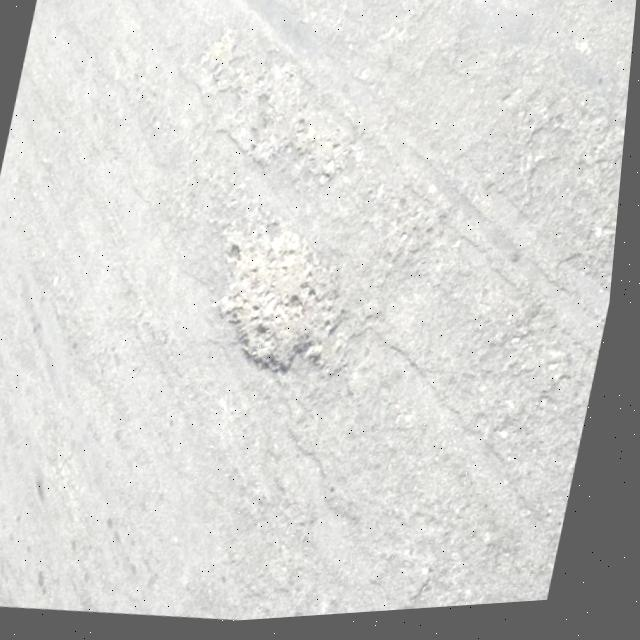Pothole: (180, 13, 385, 201), (200, 207, 370, 392)
